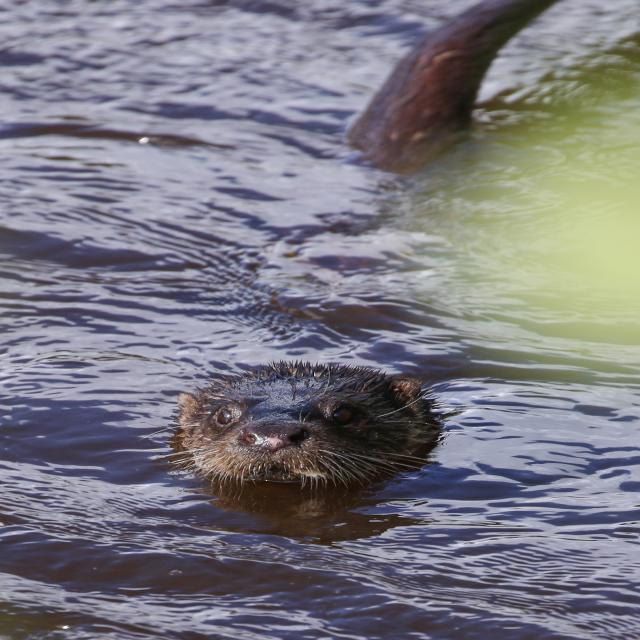otter: (175, 365, 440, 483)
